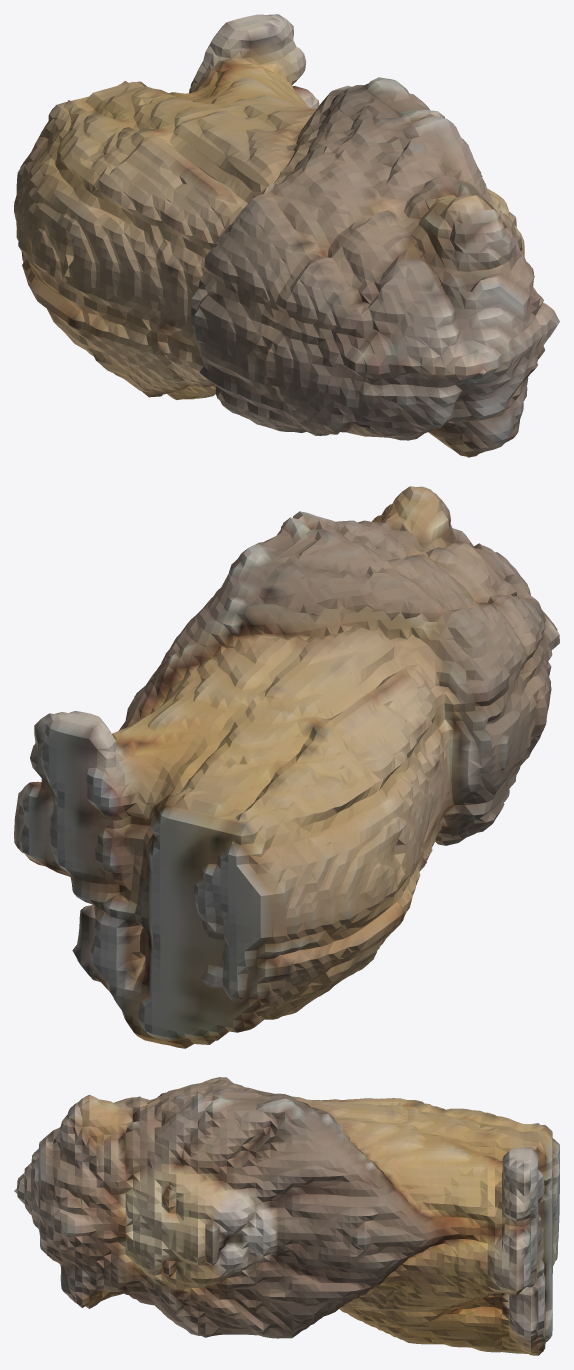
3 renders of one model, top to bottom at view 1: azimuth 30°, elevation 25°; view 2: azimuth 150°, elevation 25°; view 3: azimuth 270°, elevation 25°, orthographic. The views are drawn at different scales.
Parts seen in each view (by area): view 1: world; view 2: world; view 3: world.
Boxes of the visible parts, box(x1,y1,x2,y2) form: world: box(14, 14, 559, 457); world: box(14, 486, 559, 1048); world: box(14, 1077, 559, 1355).
Bounding box in the file's own units: 0.555 × 0.5754 × 1.03.
